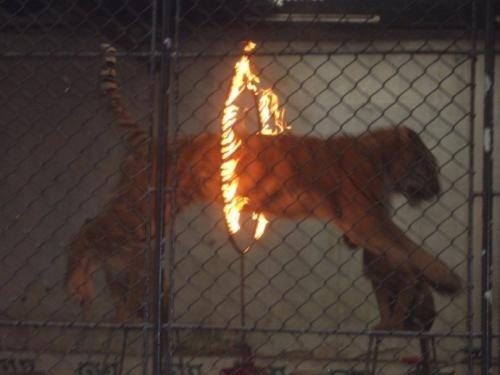fire: (217, 41, 276, 240)
